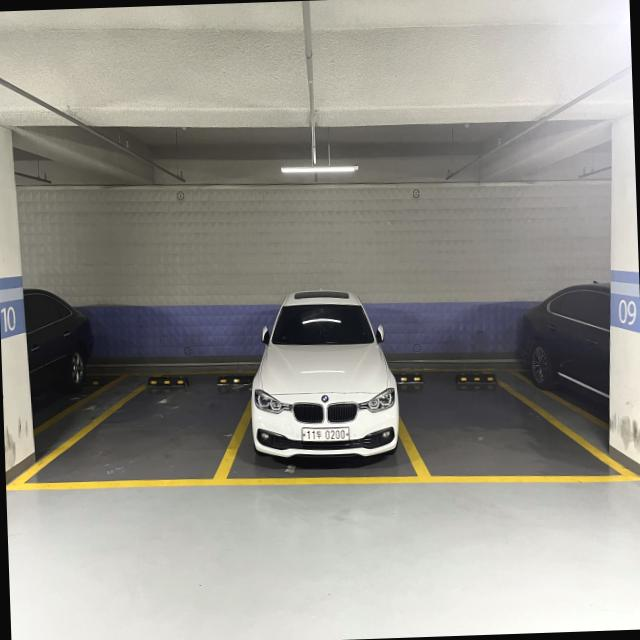car: (241, 272, 407, 488)
free: (4, 367, 257, 493), (390, 364, 640, 491)
